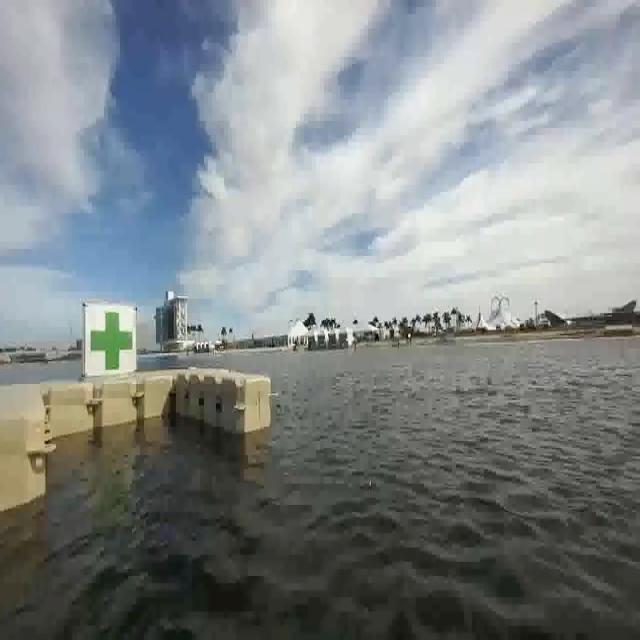blue-cross: (87, 304, 135, 376)
